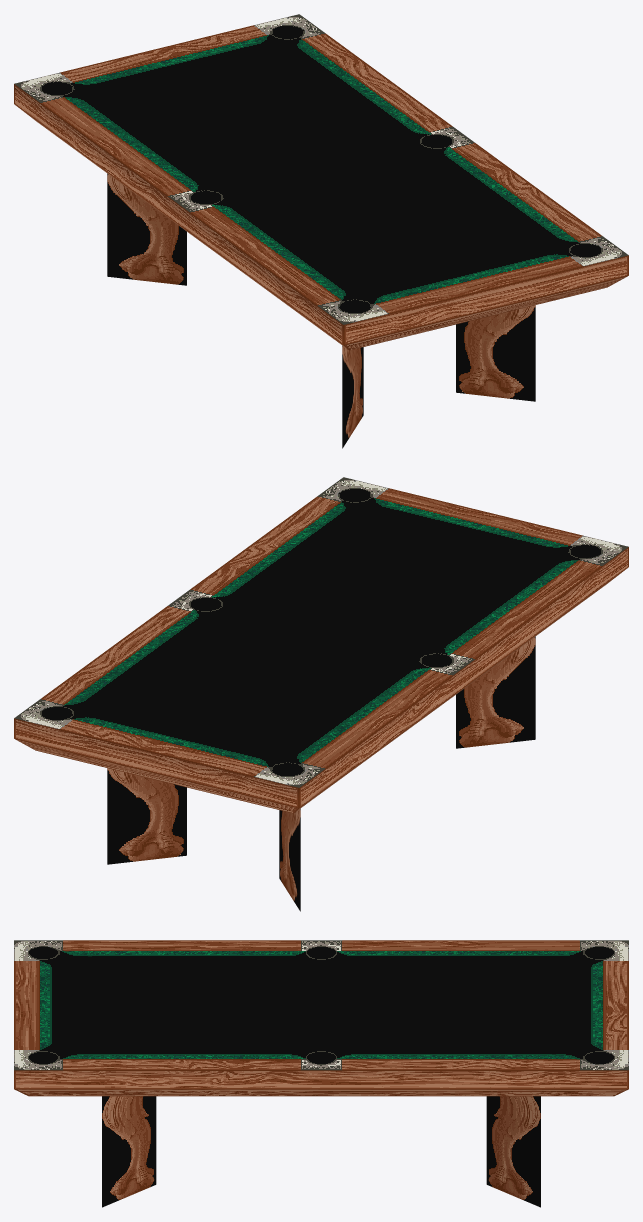
Rendered from Pooltable.glb.
The picture shows the model from 3 angles, top to bottom: view 1: azimuth 30°, elevation 25°; view 2: azimuth 150°, elevation 25°; view 3: azimuth 270°, elevation 25°; orthographic projection. The views are drawn at different scales.
Parts seen in each view (by area): view 1: Cube; view 2: Cube; view 3: Cube.
Boxes of the visible parts, x1=… form: Cube: x1=14, y1=14, x2=628, y2=448; Cube: x1=14, y1=477, x2=628, y2=911; Cube: x1=14, y1=940, x2=628, y2=1207.
Size of the model in its own units: 4 by 2.27 by 8.
Materials: 1 (1 with a texture image).
